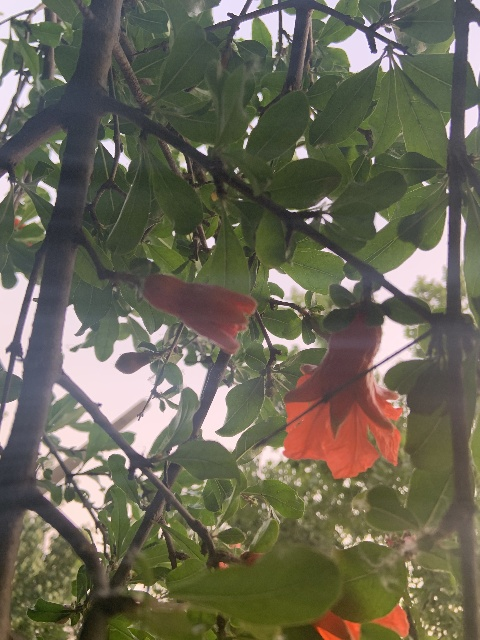flower: (282, 309, 402, 478), (142, 273, 256, 353)
